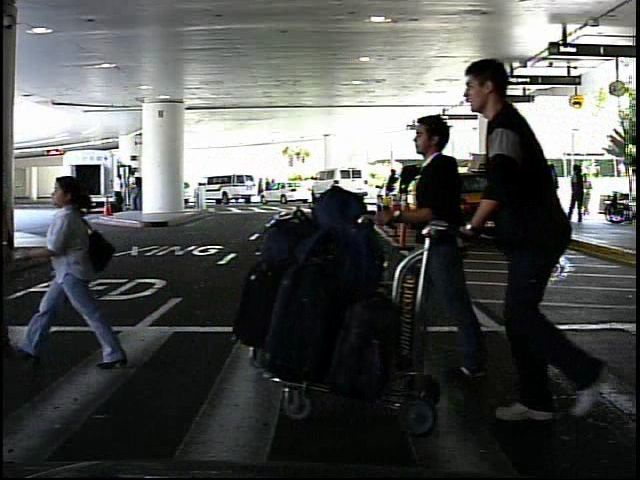person: (468, 48, 587, 424), (378, 111, 500, 386), (20, 157, 126, 382), (582, 170, 601, 218), (109, 171, 127, 221)
